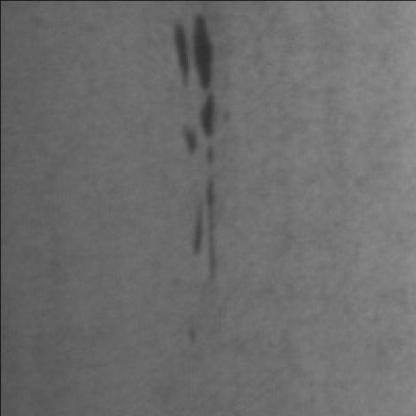inclusion: (185, 87, 229, 289), (170, 2, 222, 90)
